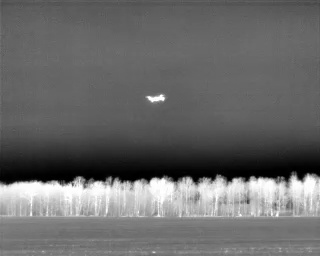DRONE: (143, 90, 170, 107)
